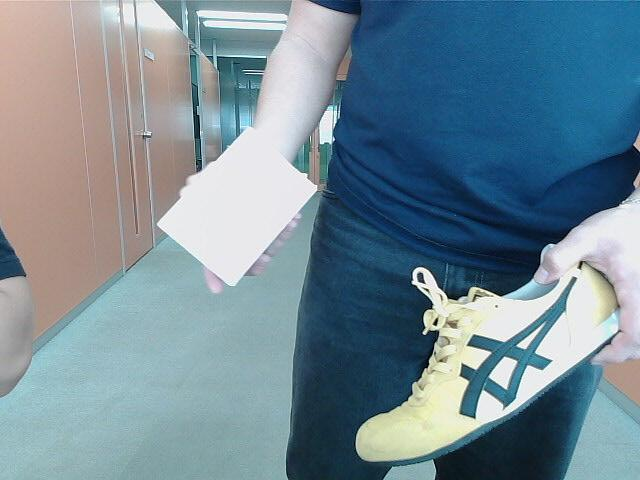Blind_box: (156, 126, 325, 291)
Shoes: (352, 221, 630, 469)
